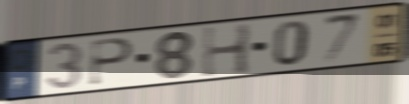0: (270, 19, 311, 69)
3: (44, 40, 84, 93)
7: (323, 10, 364, 67)
8: (153, 30, 195, 81)
H: (200, 21, 255, 80)
P: (87, 36, 136, 88)
